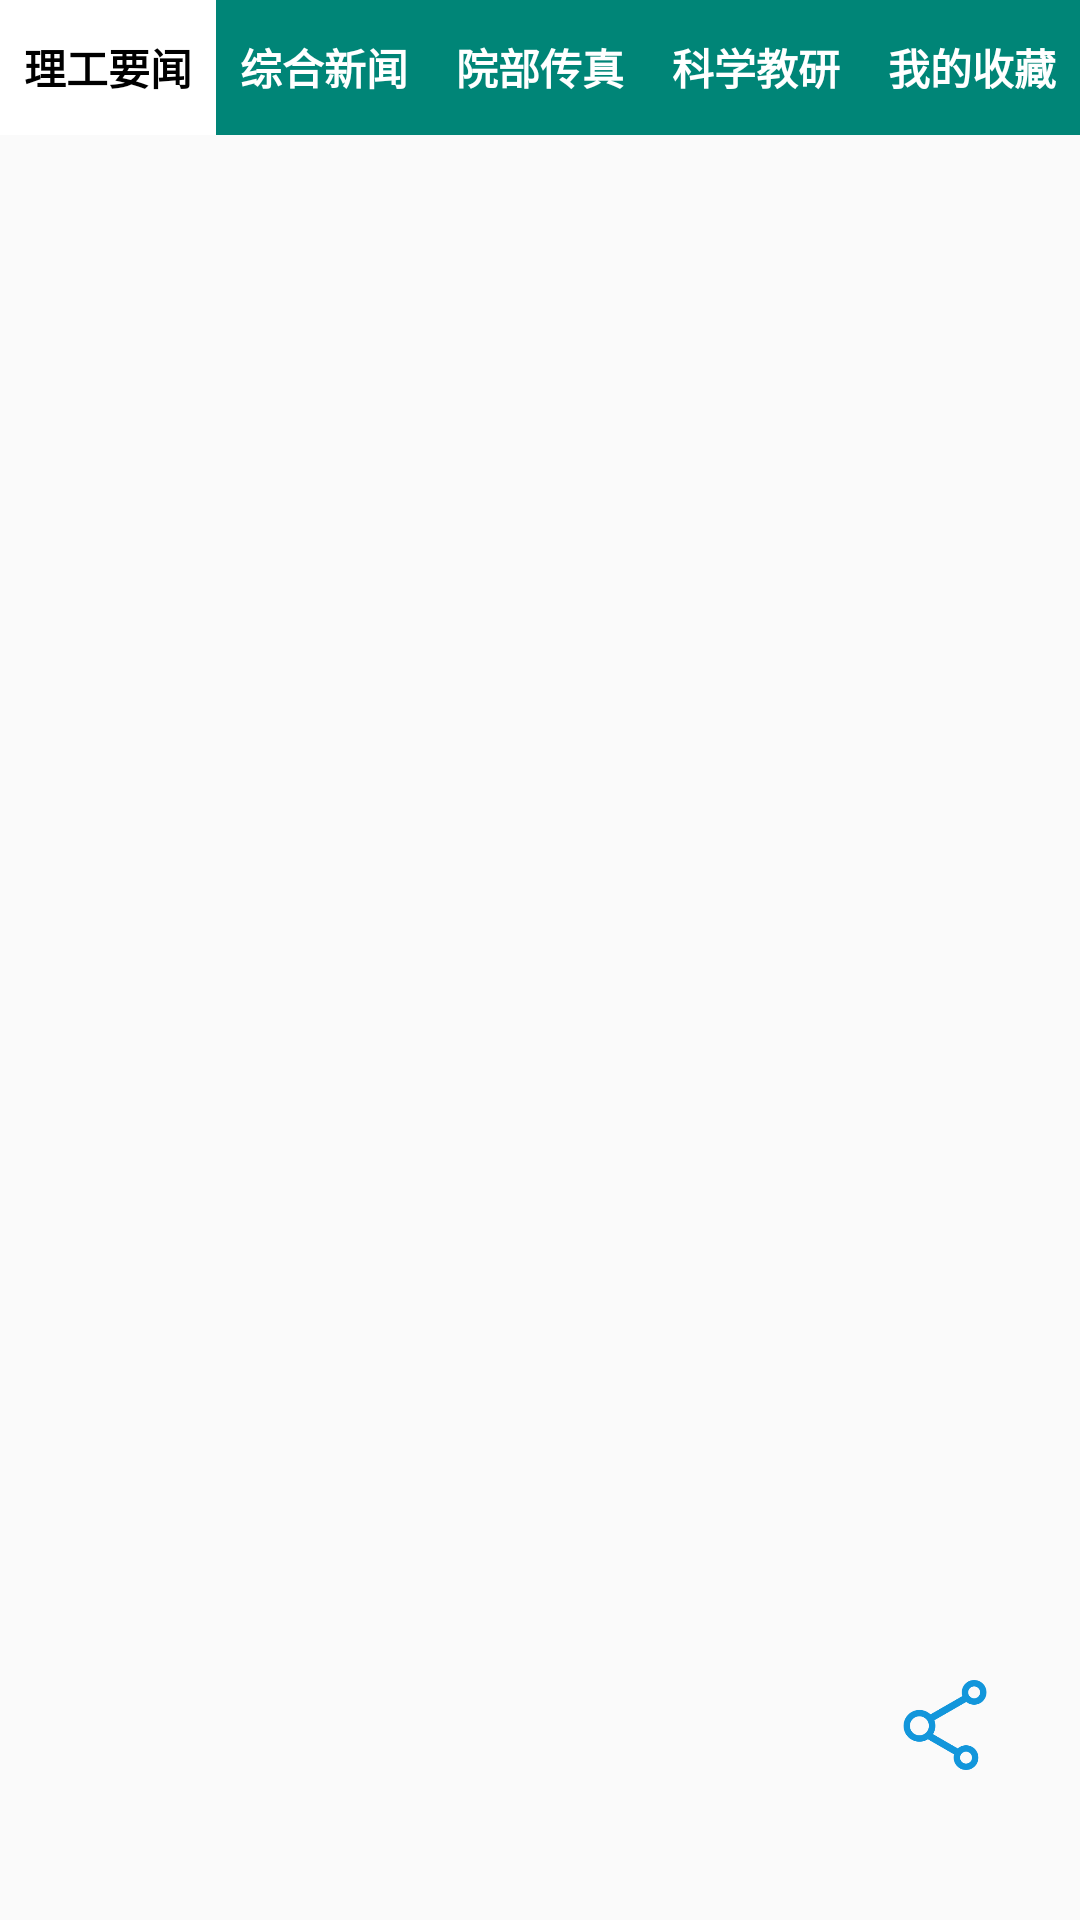

Icons on this 1080w x 1920h Android screen, each with its box as {"left": x1, "top": y1, "right": x2, "bottom": y2}:
fenxiang: {"left": 903, "top": 1680, "right": 987, "bottom": 1770}
